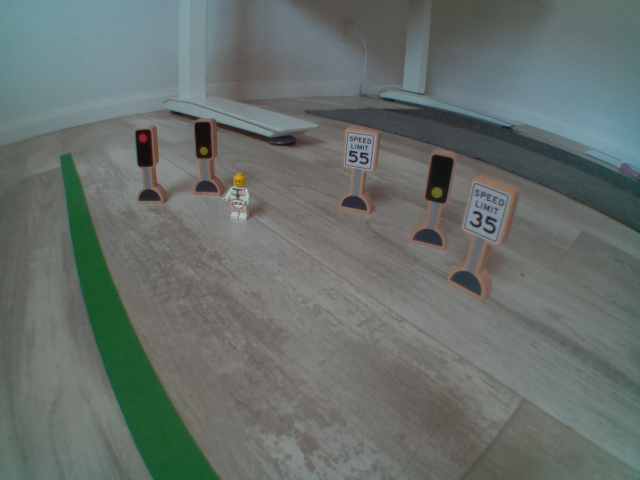Green Traffic Light: (426, 148, 454, 211), (190, 115, 221, 162)
Red Traffic Light: (128, 123, 163, 171)
Speed Limit 35: (462, 170, 515, 249)
Speed Limit 55: (339, 123, 381, 176)
person: (218, 171, 257, 223)
